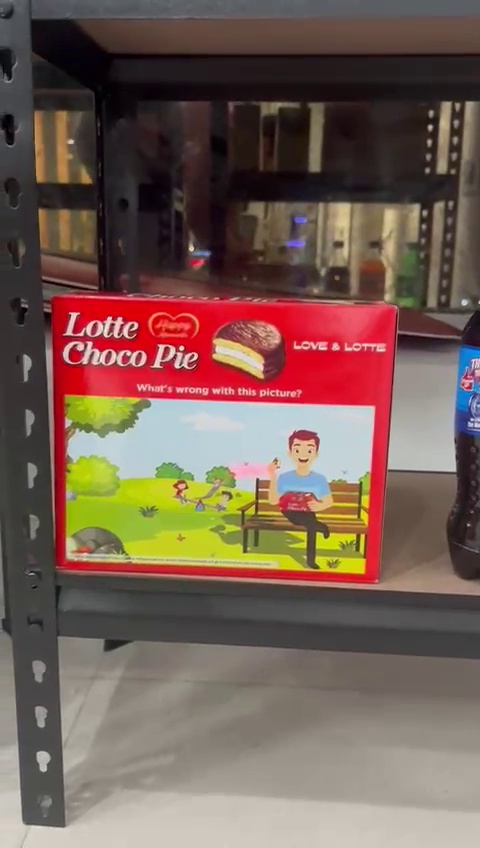Lotte Chocopie: (49, 288, 393, 584)
